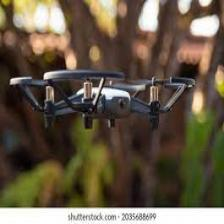drone: (9, 68, 195, 128)
